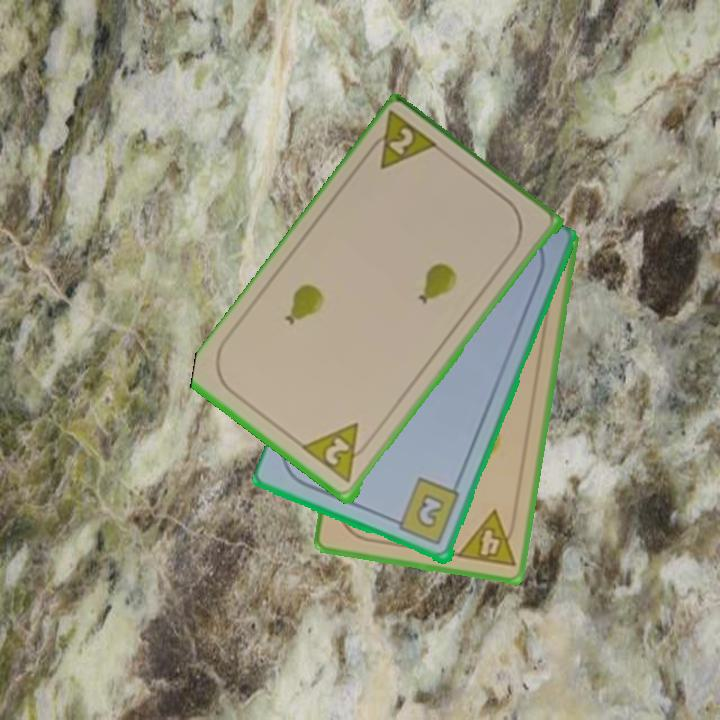2b: (387, 475, 463, 548)
2p: (360, 108, 443, 174), (300, 419, 375, 486)
4p: (453, 507, 520, 571)
